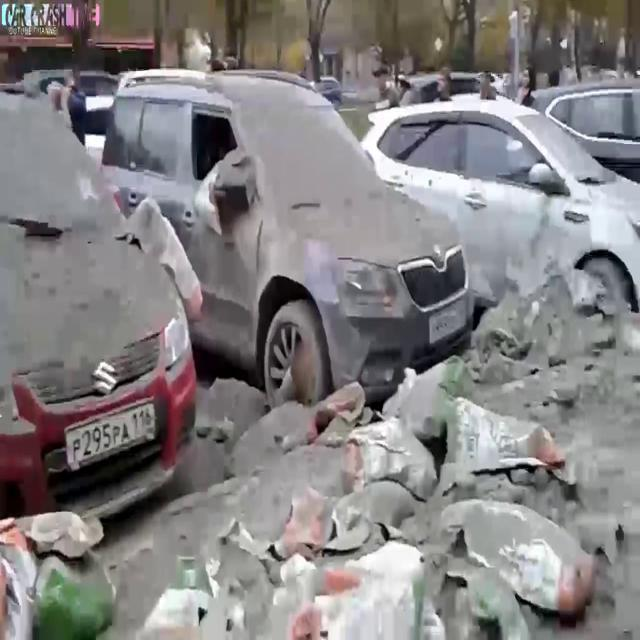accident: (3, 53, 640, 640)
